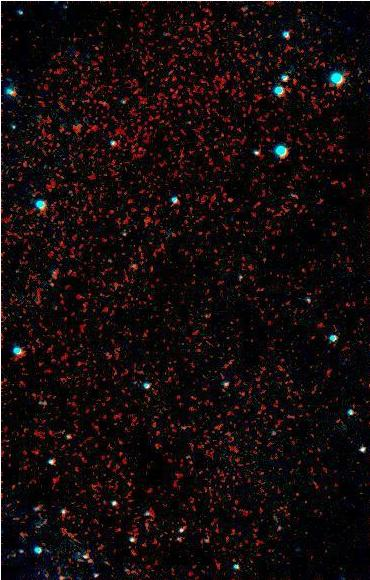star: (218, 184, 248, 214)
